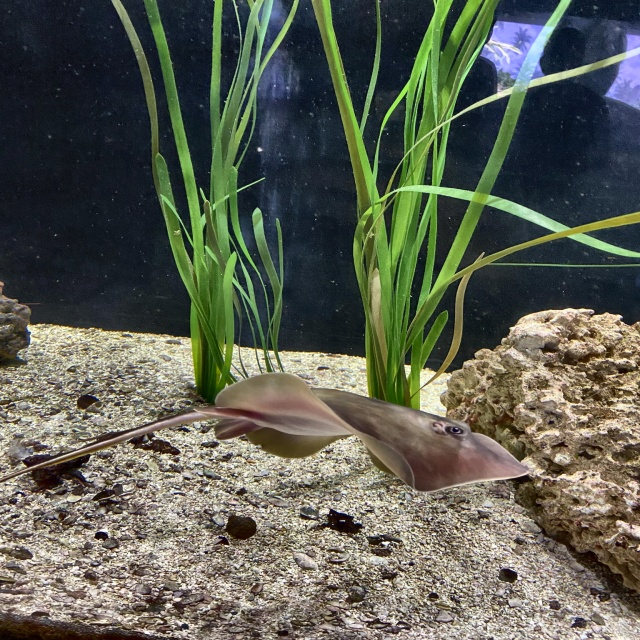stingray: (202, 372, 535, 507)
